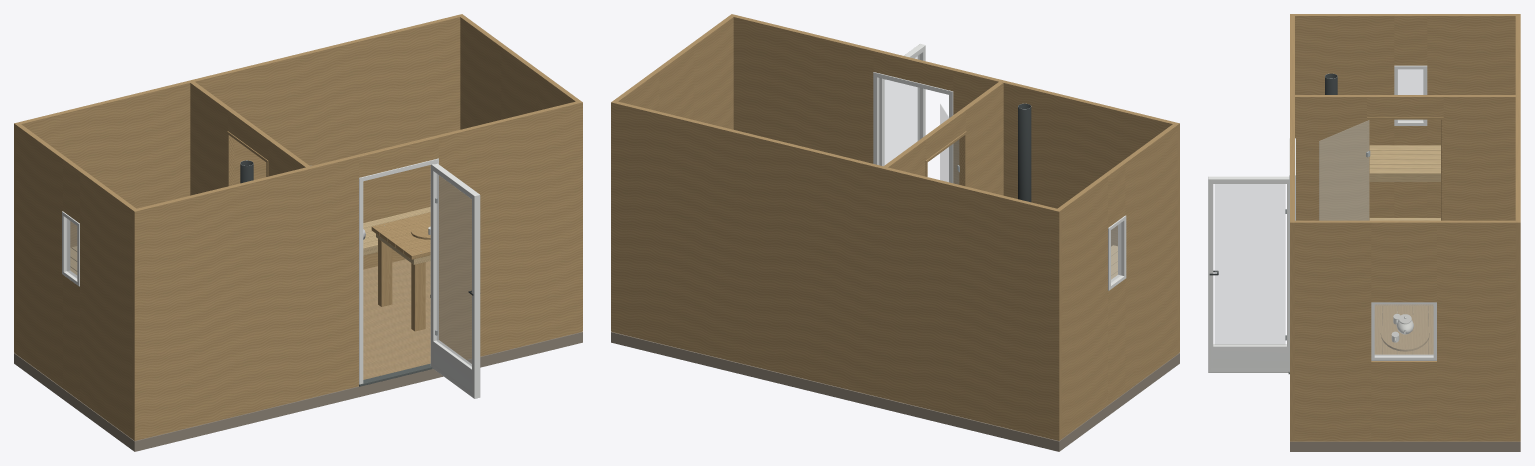
3 renders of one model, left to right at view 1: azimuth 30°, elevation 25°; view 2: azimuth 150°, elevation 25°; view 3: azimuth 270°, elevation 25°, orthographic. The views are drawn at different scales.
Parts seen in each view (by area): view 1: ПГ1 wall, ПГ2 wall, ПГ3 wall, DachaPar_21, Hinge_DP01-D02, ПГ4 wall, ПГ5 wall, С1 table, Door entry p1_i672, Window p1_i739, Л1 bench, Door steam p1_i671; view 2: ПГ2 wall, ПГ1 wall, ПГ3 wall, ПГ4 wall, DachaPar_21, ПГ5 wall, Hinge_DP01-D02, ASTON dimensioned stove and remote firebox, Door entry p1_i672, Window p1_i739, Hinge_DP01-D01, Door steam p1_i671; view 3: ПГ4 wall, ПГ3 wall, ПГ5 wall, Hinge_DP01-D02, Hinge_DP01-D01, Window p1_i742, С1 table, DachaPar_21, ПГ2 wall, ВП2 upper, ПГ1 wall, Window p1_i739 (+3 smaller).
Boxes of the visible parts, x1,y1,x2,y2 form: ПГ1 wall: (132, 100, 582, 440); ПГ2 wall: (14, 14, 464, 354); ПГ3 wall: (16, 124, 136, 438); DachaPar_21: (14, 259, 582, 451); Hinge_DP01-D02: (430, 163, 480, 398); ПГ4 wall: (460, 16, 579, 129); ПГ5 wall: (190, 82, 309, 195); С1 table: (371, 212, 430, 331); Door entry p1_i672: (359, 158, 438, 386); Window p1_i739: (62, 211, 79, 286); Л1 bench: (363, 207, 430, 251); Door steam p1_i671: (227, 131, 268, 186); ПГ2 wall: (611, 100, 1061, 440); ПГ1 wall: (729, 14, 1179, 354); ПГ3 wall: (1057, 124, 1177, 438); ПГ4 wall: (614, 16, 733, 129); DachaPar_21: (611, 332, 1179, 451); ПГ5 wall: (884, 82, 1003, 195); Hinge_DP01-D02: (879, 43, 925, 166); ASTON dimensioned stove and remote firebox: (1018, 103, 1031, 202); Door entry p1_i672: (873, 72, 953, 182); Window p1_i739: (1108, 215, 1126, 290); Hinge_DP01-D01: (940, 104, 959, 184); Door steam p1_i671: (925, 131, 966, 186); ПГ4 wall: (1295, 220, 1515, 441); ПГ3 wall: (1295, 14, 1515, 217); ПГ5 wall: (1295, 95, 1515, 220); Hinge_DP01-D02: (1208, 176, 1289, 372); Hinge_DP01-D01: (1319, 120, 1370, 220); Window p1_i742: (1371, 302, 1436, 360); С1 table: (1374, 306, 1433, 354); DachaPar_21: (1290, 304, 1520, 451); ПГ2 wall: (1515, 14, 1520, 441); ВП2 upper: (1369, 145, 1440, 176); ПГ1 wall: (1290, 14, 1294, 441); Window p1_i739: (1394, 65, 1427, 125).
Size of the model in its own units: 4.51 by 2.31 by 2.84.
27 materials, 9 textured.
